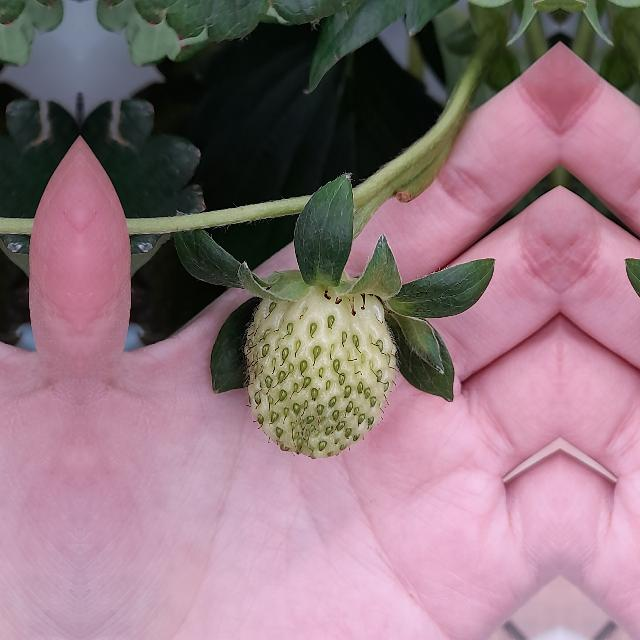Health_25: (244, 286, 396, 460)
